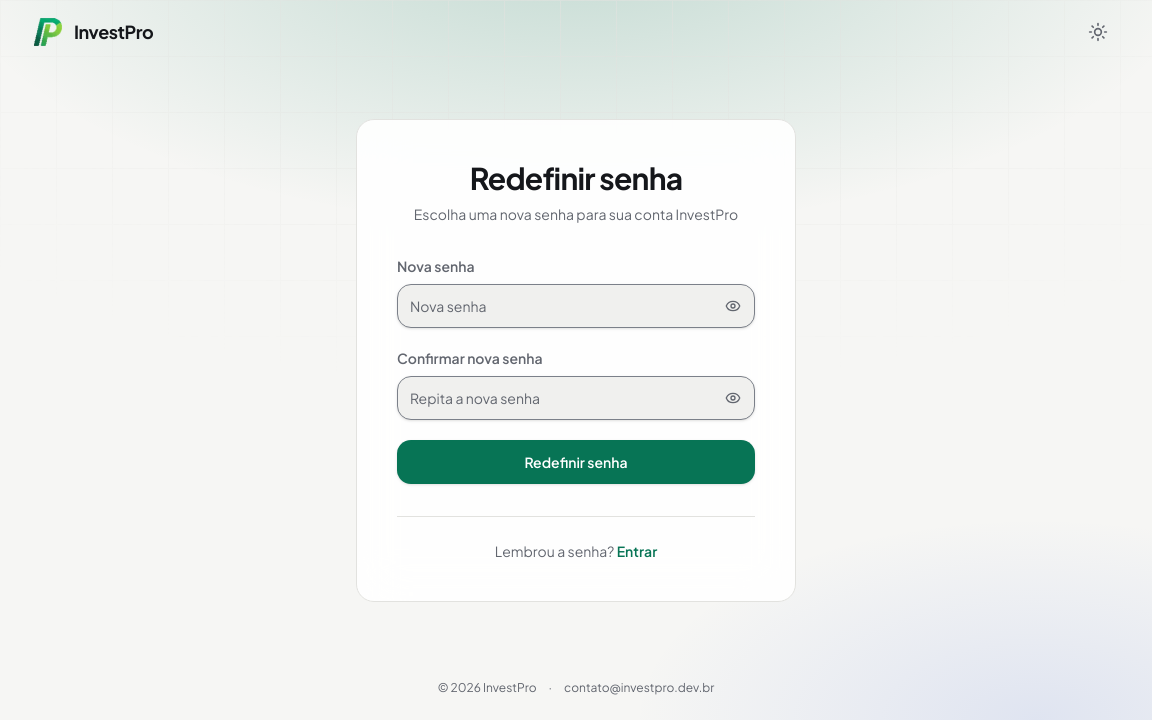
it: ResetPassword › envia { token, newPassword } — o nome que o servidor exige — e não envia `password`
In the password field labelled "Nova senha": coordinates (576, 306) [397, 284, 755, 328], type "NovaSenha#2026"
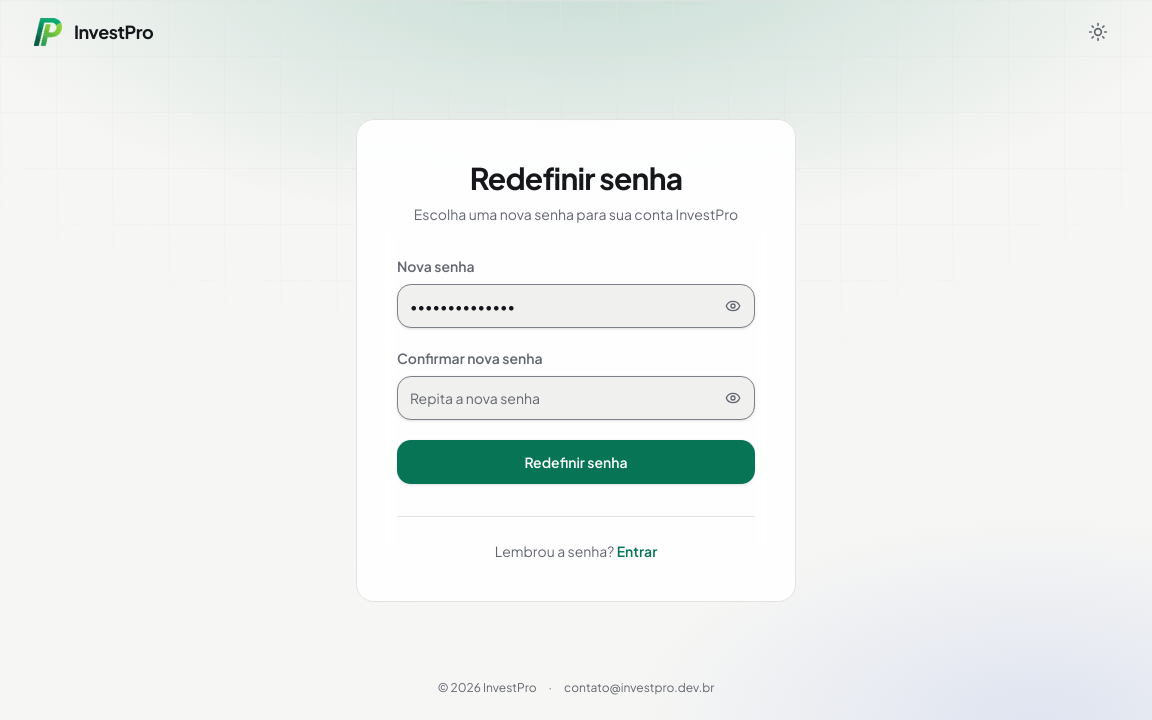
In the password field labelled "Confirmar nova senha": coordinates (576, 398) [397, 376, 755, 420], type "NovaSenha#2026"
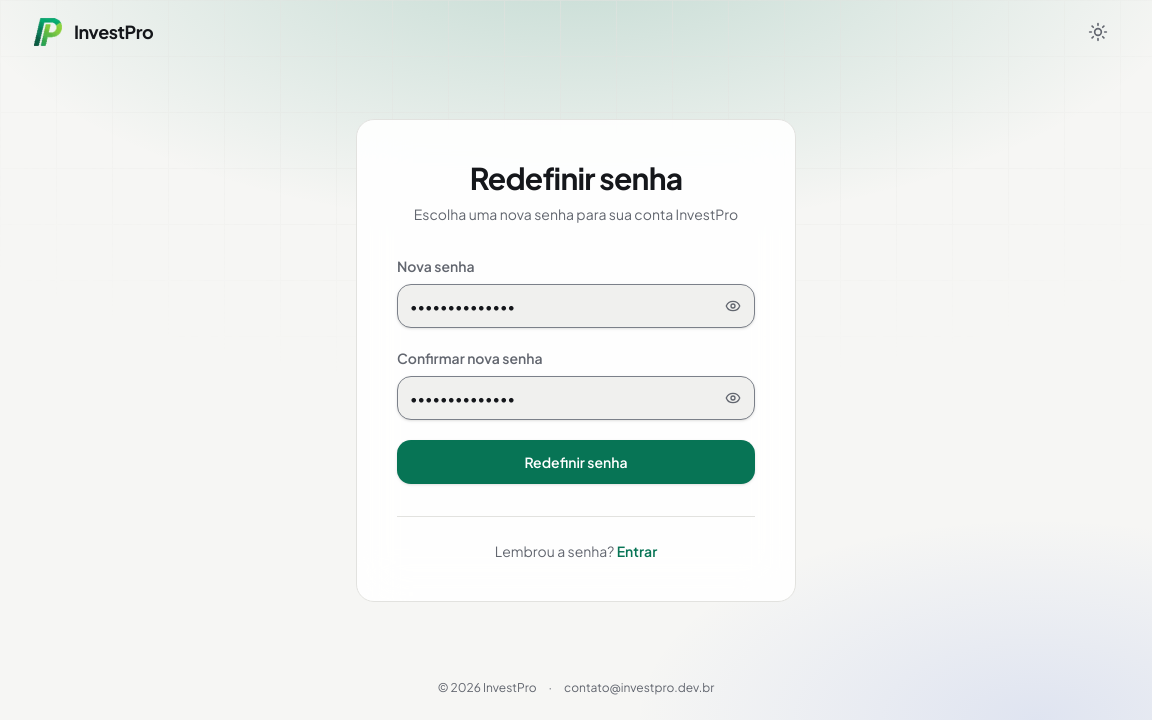
Click the button "Redefinir senha": coordinates (576, 462) [397, 440, 755, 484]
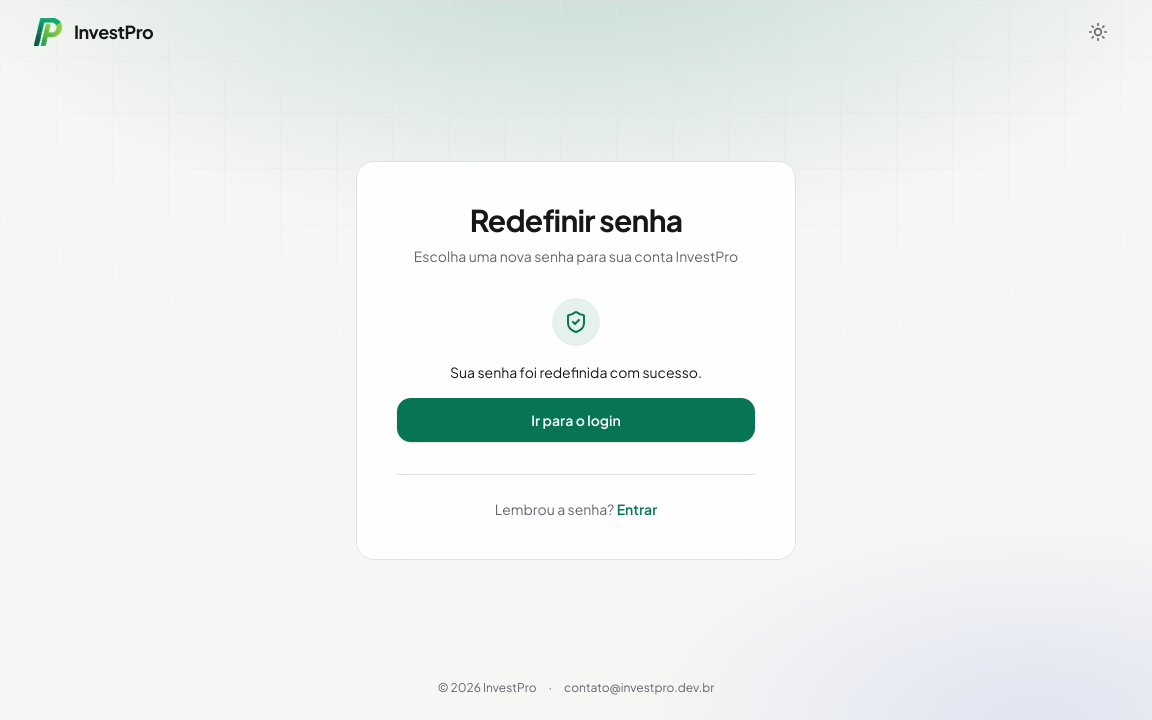
Now the text "Sua senha foi redefinida com sucesso." is shown, box [450, 362, 702, 380]
